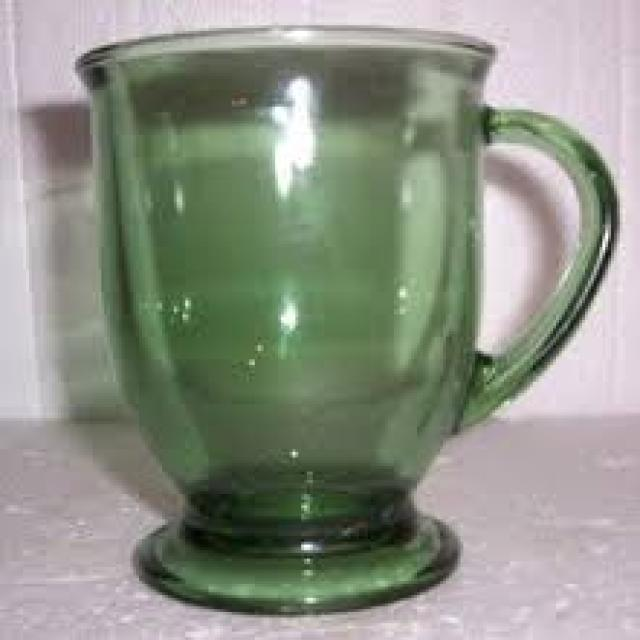glass: (72, 22, 614, 615)
